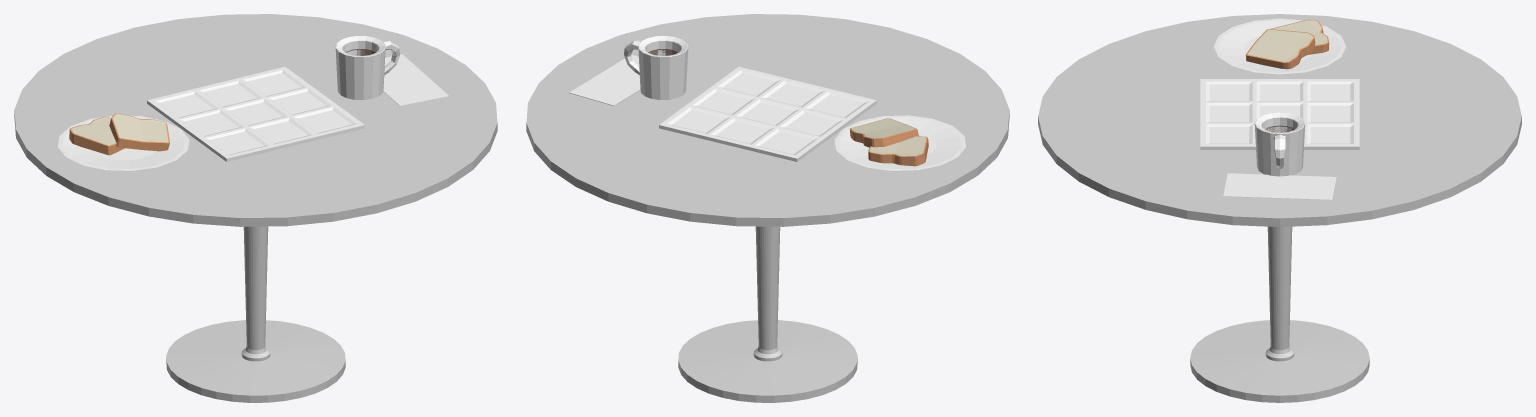
The picture shows the model from 3 angles, left to right: view 1: azimuth 30°, elevation 25°; view 2: azimuth 150°, elevation 25°; view 3: azimuth 270°, elevation 25°; orthographic projection.
Visible parts, largest first — view 1: Cylinder.007, Cube, Cylinder, Cylinder.008, Plane.001, Cube.005, Cube.004; view 2: Cylinder.007, Cube, Cylinder.008, Cylinder, Plane.001, Cube.005, Cube.004; view 3: Cylinder.007, Cube, Cylinder.008, Cylinder, Plane.001, Cube.005, Cube.004.
Part boxes in pixels (x1,y1,x2,y2): Cylinder.007: (14, 14, 497, 402); Cube: (147, 66, 364, 161); Cylinder: (335, 36, 399, 99); Cylinder.008: (58, 115, 189, 171); Plane.001: (383, 54, 449, 106); Cube.005: (109, 113, 169, 151); Cube.004: (69, 116, 124, 155); Cylinder.007: (526, 14, 1009, 402); Cube: (659, 66, 876, 161); Cylinder.008: (834, 115, 965, 171); Cylinder: (624, 36, 688, 99); Plane.001: (569, 55, 640, 105); Cube.005: (849, 118, 918, 147); Cube.004: (868, 136, 928, 166); Cylinder.007: (1038, 14, 1521, 402); Cube: (1200, 79, 1359, 149); Cylinder.008: (1213, 18, 1346, 74); Cylinder: (1254, 112, 1305, 176); Plane.001: (1223, 173, 1336, 200); Cube.005: (1245, 29, 1315, 69); Cube.004: (1270, 19, 1329, 54).
Size of what is drawn, in the model's own units: 19.12 by 12.78 by 19.12.
